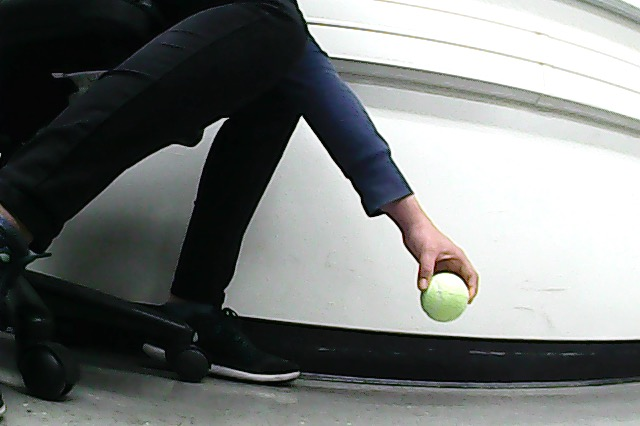ball: (420, 273, 469, 322)
